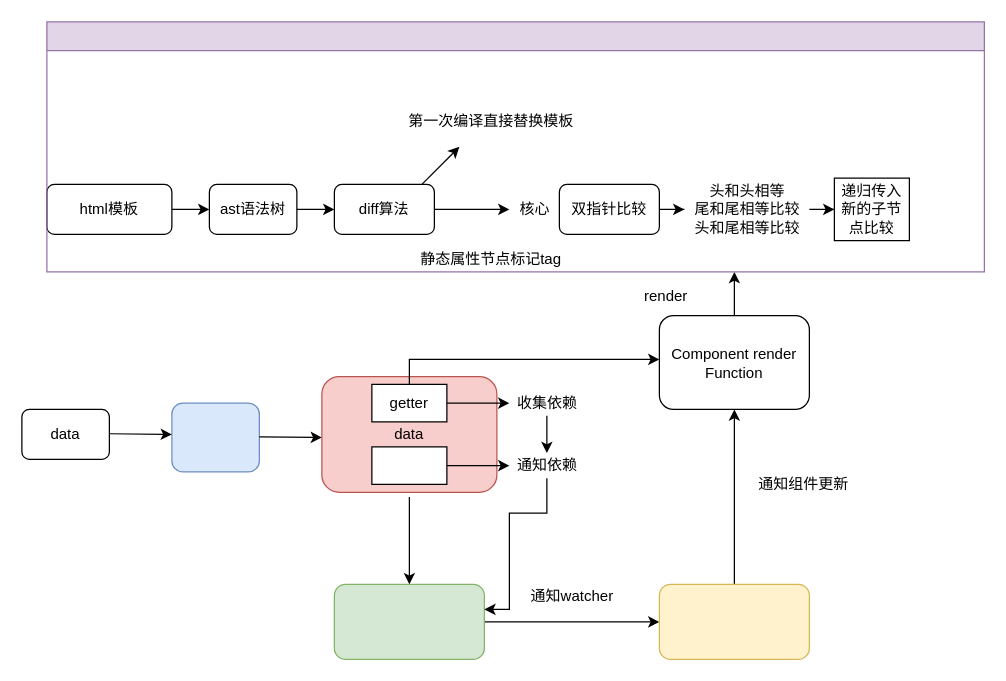
Image size: 1006x681. Some labels were removed from this diagram. Here are the shapes that lost their labels. From the top down, the centre of each, then its label:
the point at 515,146: 模板编译核心
the point at 215,437: O bserver
the point at 409,465: setter
the point at 408,621: Dep
the point at 733,621: Watcher
